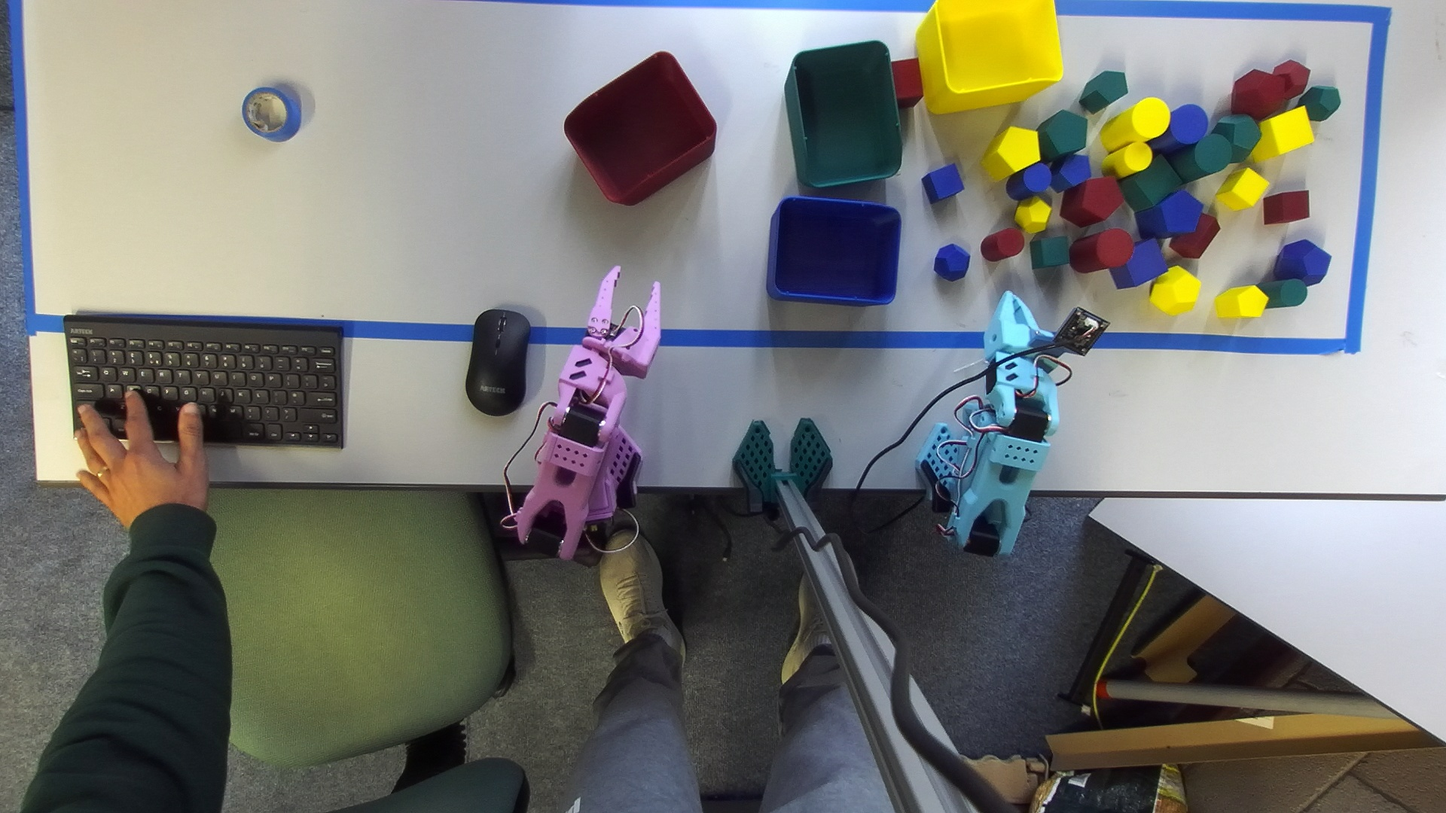bin: (563, 51, 716, 205), (785, 41, 901, 187), (916, 0, 1062, 113), (766, 196, 900, 305)
cube: (1119, 156, 1182, 212), (1250, 108, 1313, 160), (1110, 239, 1167, 288), (1216, 168, 1268, 210), (891, 58, 923, 108), (922, 163, 963, 202), (1263, 190, 1309, 224), (1030, 236, 1069, 269)
cylinder: (1100, 97, 1170, 151), (1167, 135, 1231, 182), (1149, 104, 1207, 154), (1069, 228, 1133, 273), (1102, 142, 1152, 178), (1006, 162, 1051, 200), (980, 227, 1023, 261), (1258, 279, 1307, 308)
dodecahedron: (1231, 70, 1287, 120), (1274, 239, 1331, 285), (1149, 266, 1200, 315), (1216, 114, 1260, 160), (1298, 86, 1340, 121), (933, 243, 970, 281), (1014, 196, 1051, 233), (1272, 59, 1309, 96)
gripper: (582, 266, 660, 378), (983, 290, 1050, 358)
hexagonal: (1060, 176, 1124, 227), (1136, 190, 1202, 238), (981, 126, 1039, 180), (1038, 110, 1087, 160), (1170, 213, 1219, 258), (1078, 71, 1127, 113), (1214, 285, 1267, 318), (1050, 154, 1091, 191)
